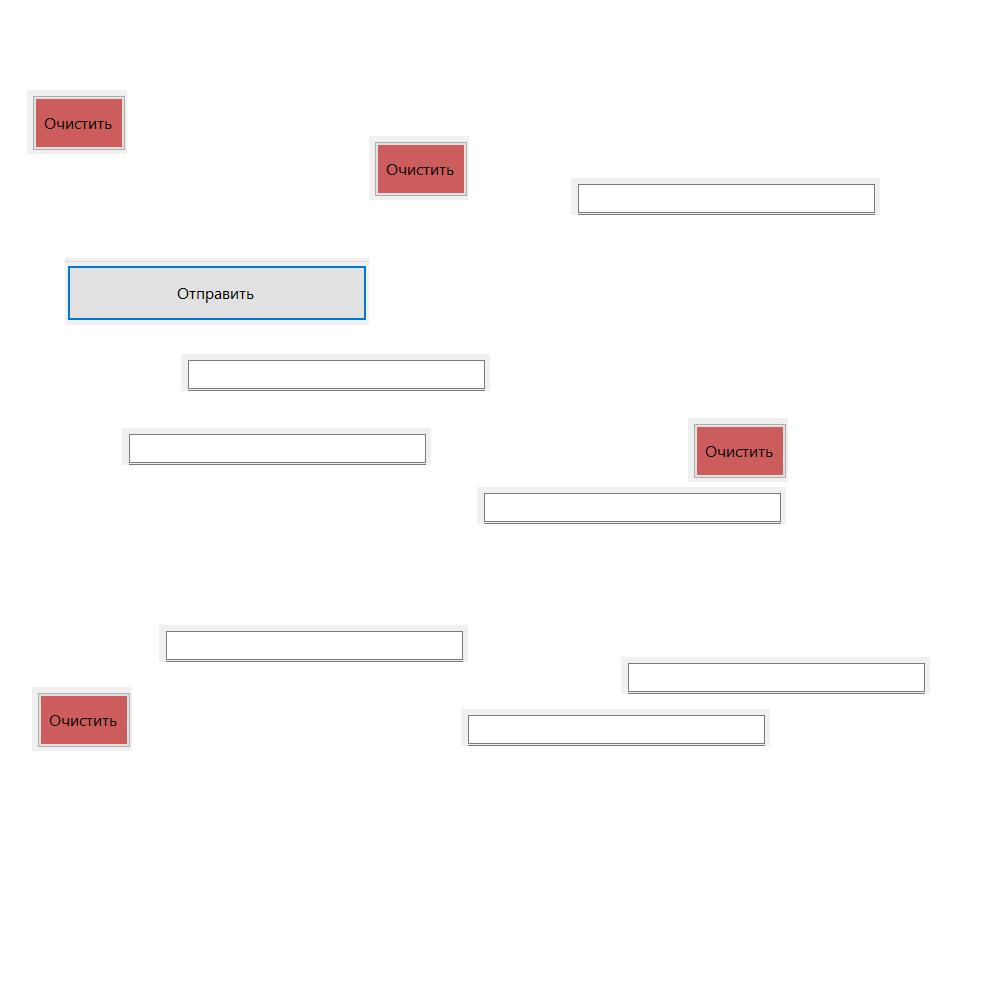Button: (65, 258, 369, 325), (27, 90, 127, 154), (688, 418, 788, 482), (32, 687, 132, 751), (369, 136, 469, 200)
EditText-: (122, 428, 431, 465), (477, 487, 786, 524), (621, 657, 930, 694), (181, 354, 490, 391), (461, 709, 770, 746), (571, 178, 880, 215), (159, 625, 468, 662)
